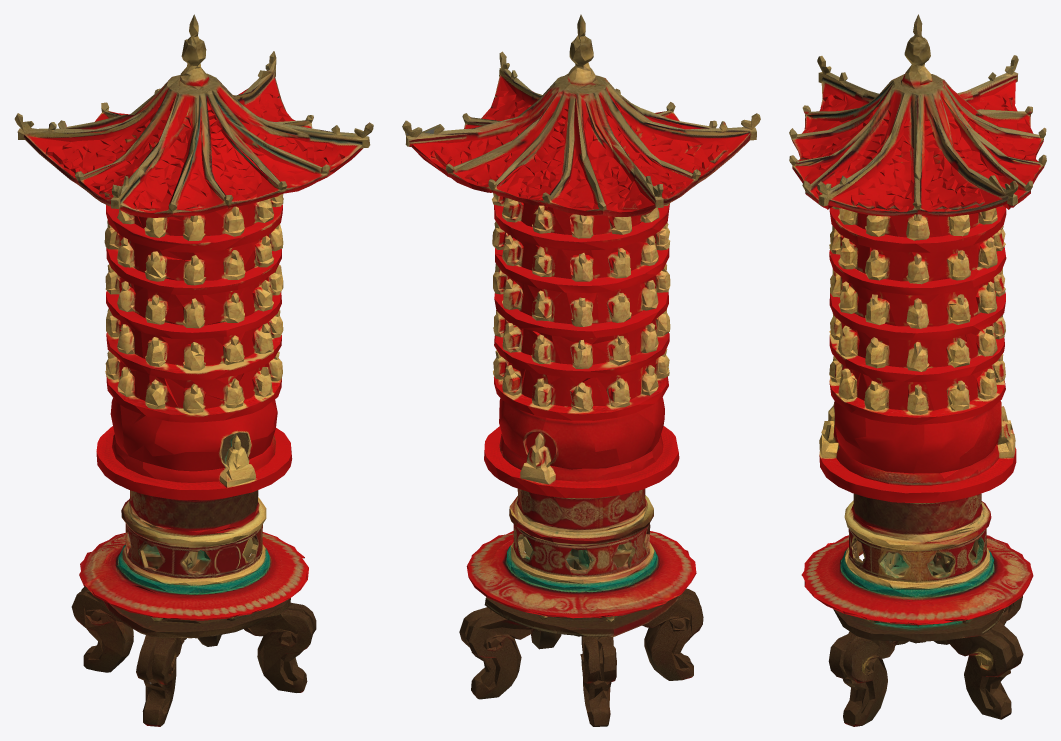
File: thap-den-cau-an.glb
3 renders of one model, left to right at view 1: azimuth 30°, elevation 25°; view 2: azimuth 150°, elevation 25°; view 3: azimuth 270°, elevation 25°, orthographic.
Size of the model in its own units: 0.7781 by 1.9 by 0.6584.
Materials: 1 (1 with a texture image).
